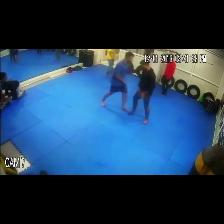person: (101, 52, 134, 111), (129, 60, 156, 124), (161, 54, 176, 95), (2, 81, 25, 99), (0, 88, 12, 111), (107, 49, 116, 75), (13, 49, 18, 64), (56, 49, 61, 60), (10, 49, 14, 61), (37, 49, 41, 54)
